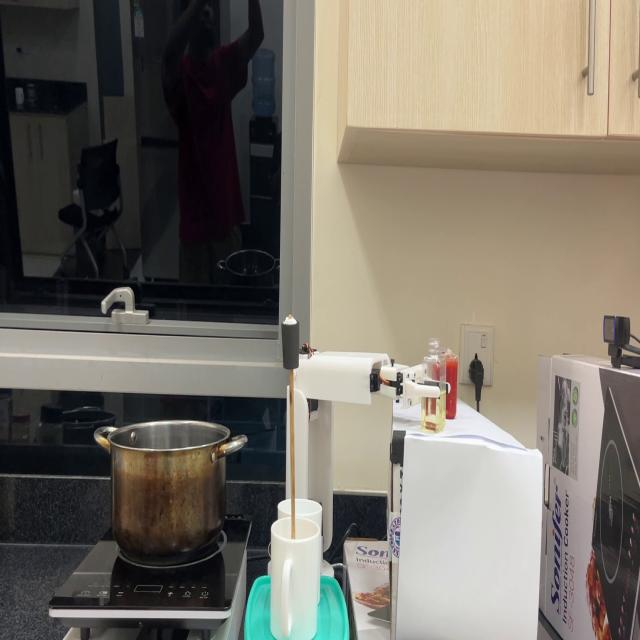blended_tomatoes_pepper: (435, 362, 458, 418)
cooking_pot: (93, 417, 249, 563)
oil: (422, 391, 446, 427)
spatula: (280, 313, 302, 536)
